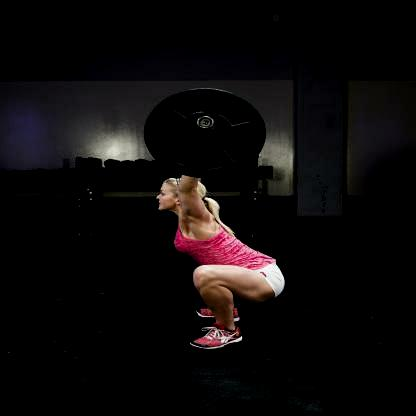Barbell: (196, 115, 217, 130)
